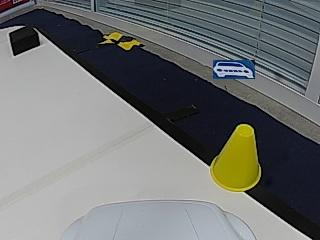block: (8, 26, 40, 55)
cone: (210, 124, 260, 192)
